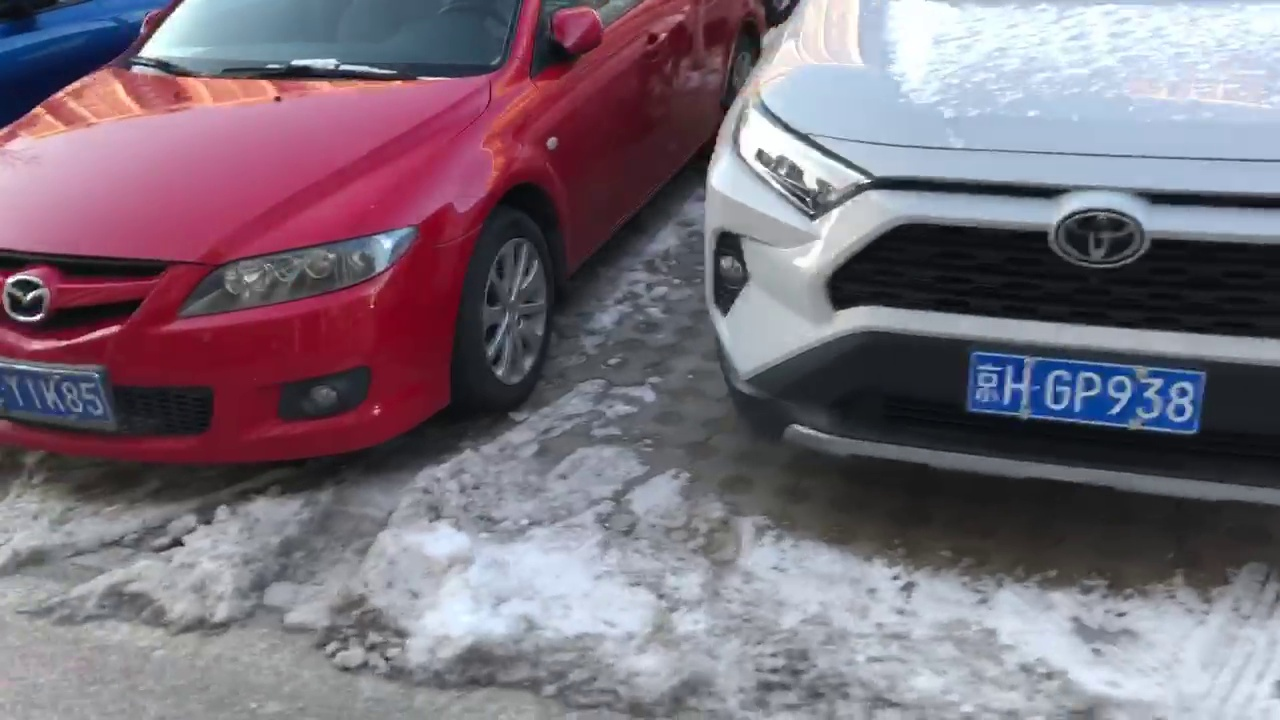plate: (971, 359, 1213, 432), (1, 367, 109, 423)
